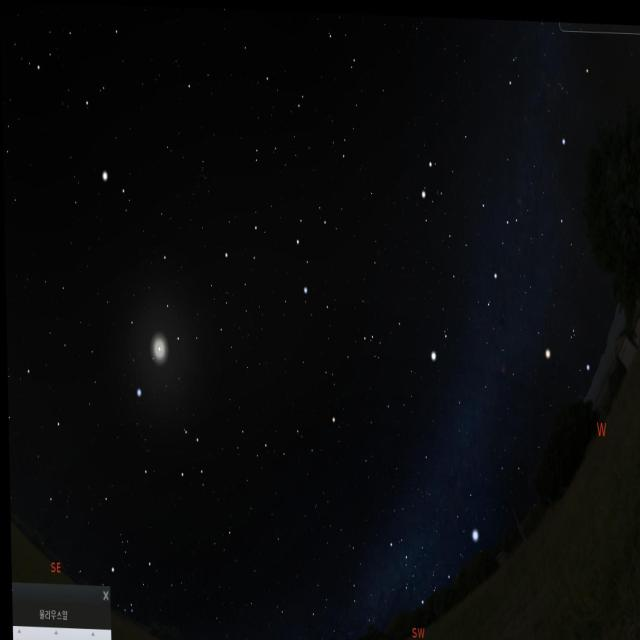bootes: (57, 2, 132, 205)
canis_minor: (423, 310, 452, 375)
gemini: (418, 139, 527, 316)
leo: (210, 184, 341, 302)
moon: (133, 304, 187, 390)
